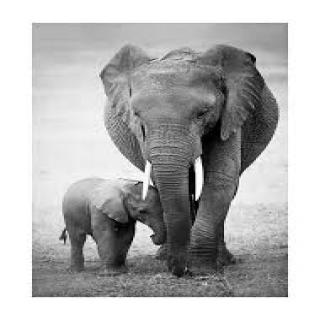Elephant: (98, 42, 284, 278), (55, 166, 177, 279)
